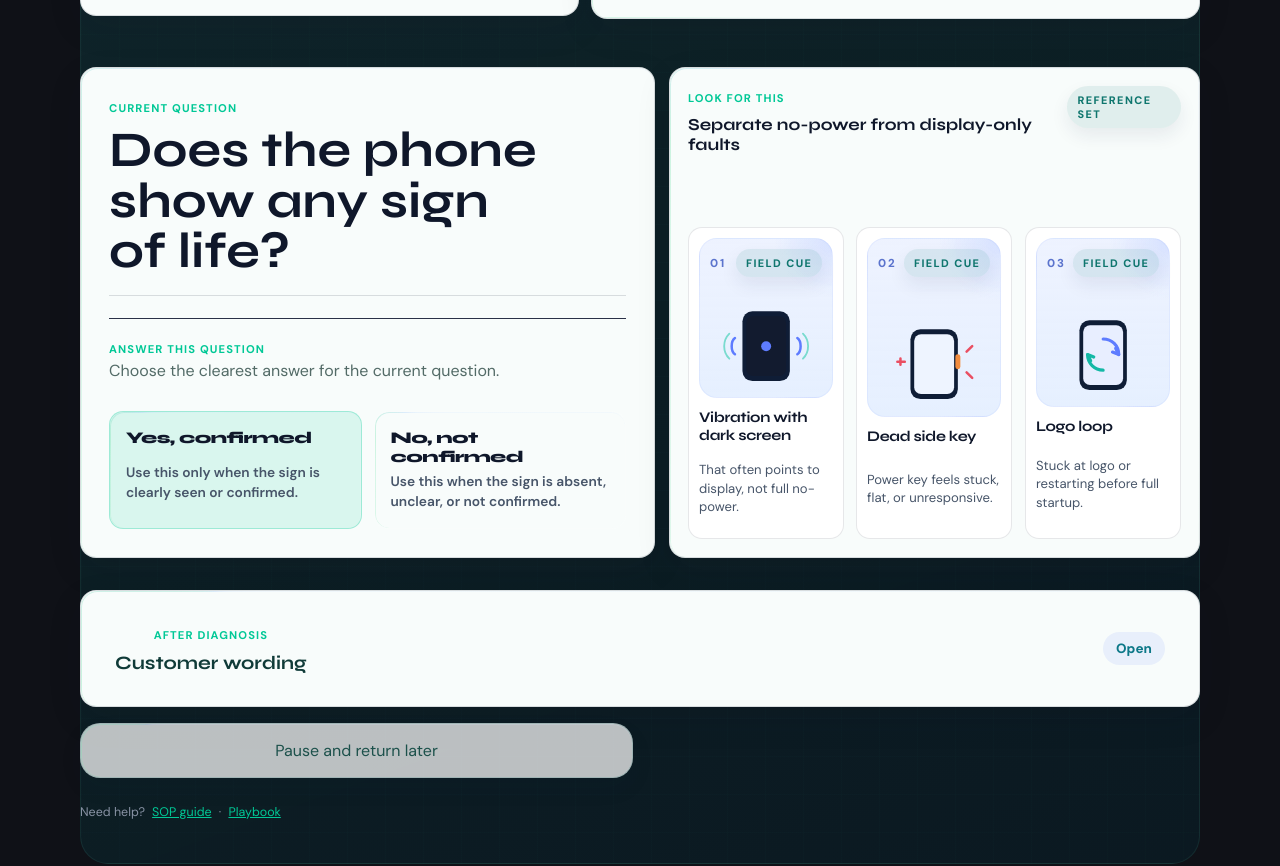
Test case: TriagePage › shows an error instead of advancing when a next question response is incomplete
(page scrolled)
Click the button "Yes, confirmed".
click(235, 470)  # box [109,411,362,529]
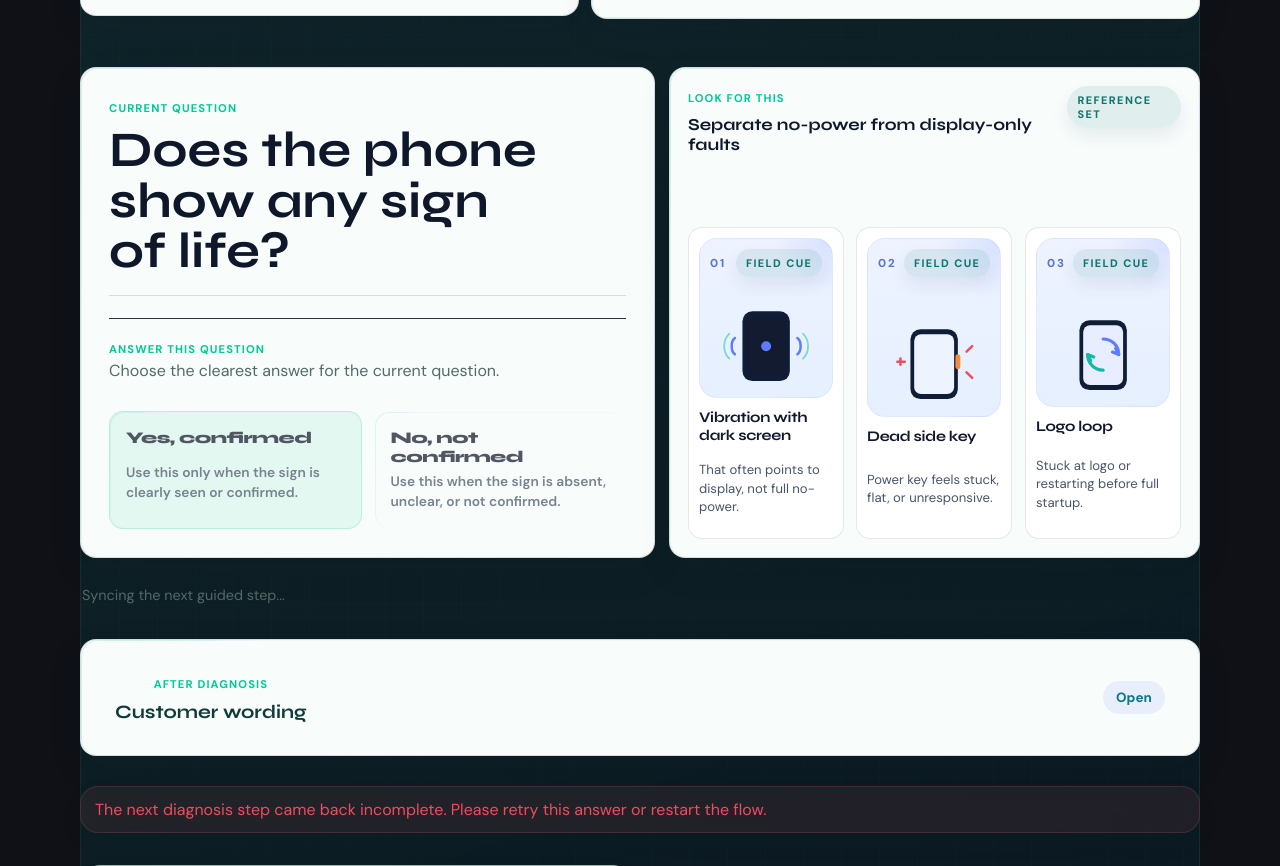
Expected: the text "next diagnosis step came back incomplete" is shown, [95,799,766,820]
